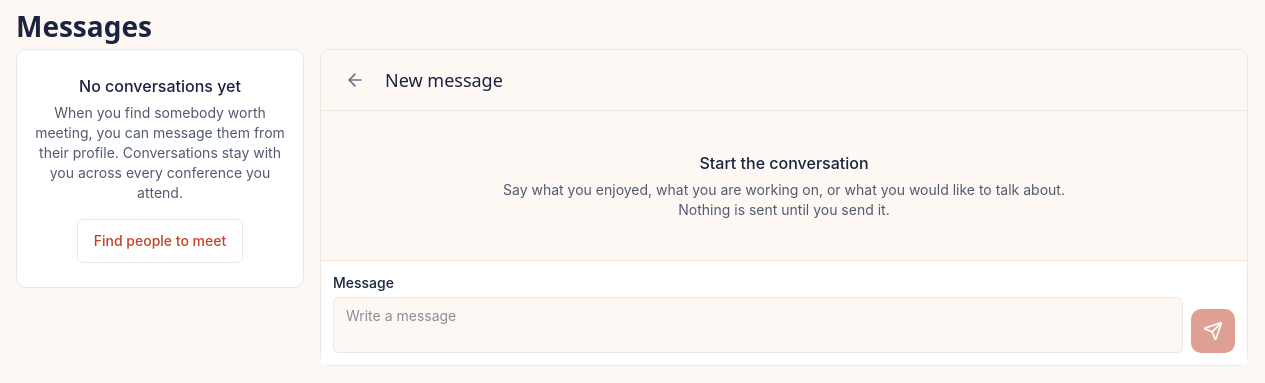
Test: the composer › is enabled as soon as there is a non-whitespace character
Step 1. Type "  hi  " into the text box labelled "Message" → point(758, 325), box [333, 297, 1183, 353]
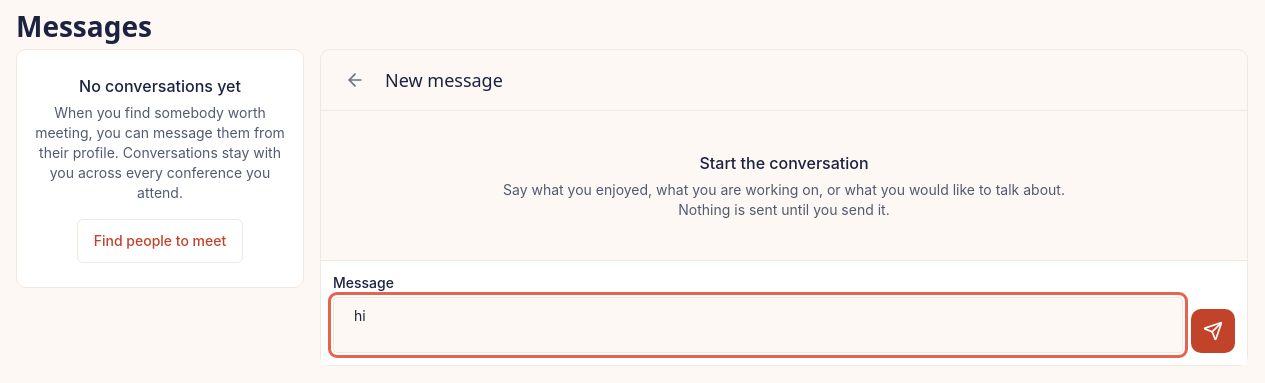
Now the button named "send message" is enabled, box [1191, 309, 1235, 353]
